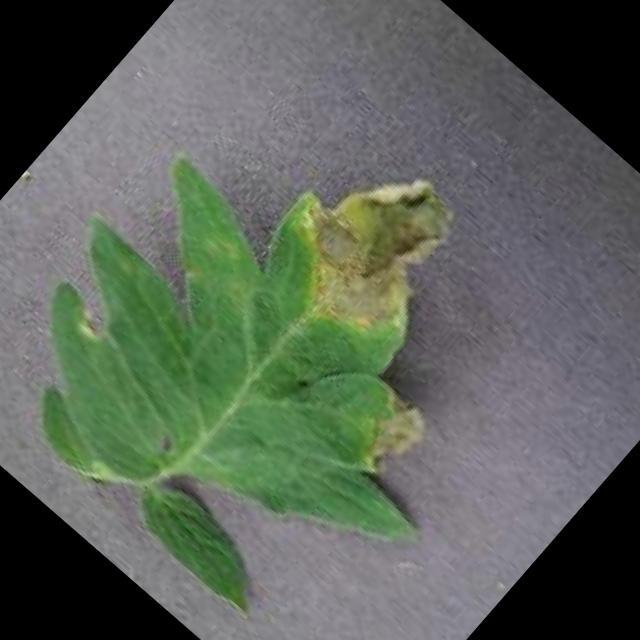Tomato late blight leaf: (0, 33, 608, 640)
